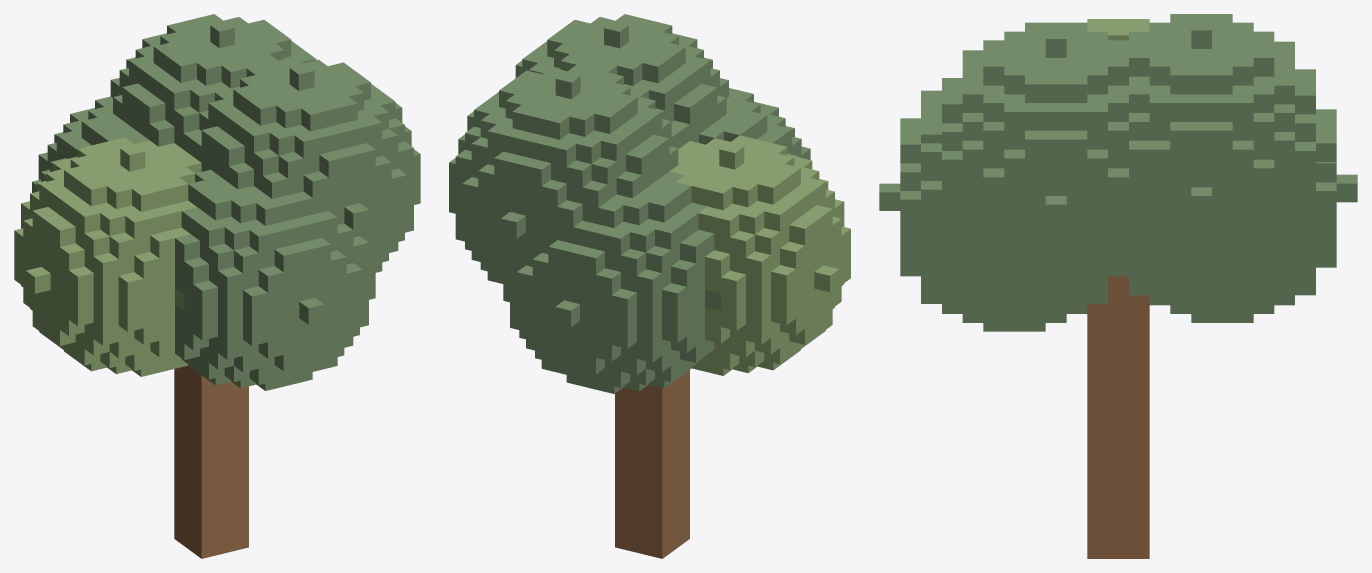
Rendered from gardening-04.glb.
3 renders of one model, left to right at view 1: azimuth 30°, elevation 25°; view 2: azimuth 150°, elevation 25°; view 3: azimuth 270°, elevation 25°, orthographic. The views are drawn at different scales.
Parts seen in each view (by area): view 1: Bonsai tree; view 2: Bonsai tree; view 3: Bonsai tree.
Boxes of the visible parts, x1=… form: Bonsai tree: x1=14, y1=14, x2=420, y2=558; Bonsai tree: x1=449, y1=14, x2=850, y2=558; Bonsai tree: x1=879, y1=14, x2=1357, y2=558.
Size of the model in its own units: 1.76 by 2.32 by 1.84.
